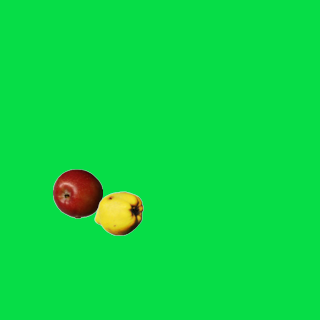Apple Braeburn: (52, 168, 102, 218)
Quince: (93, 188, 143, 238)
